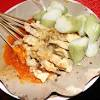sate: (1, 15, 95, 88)
